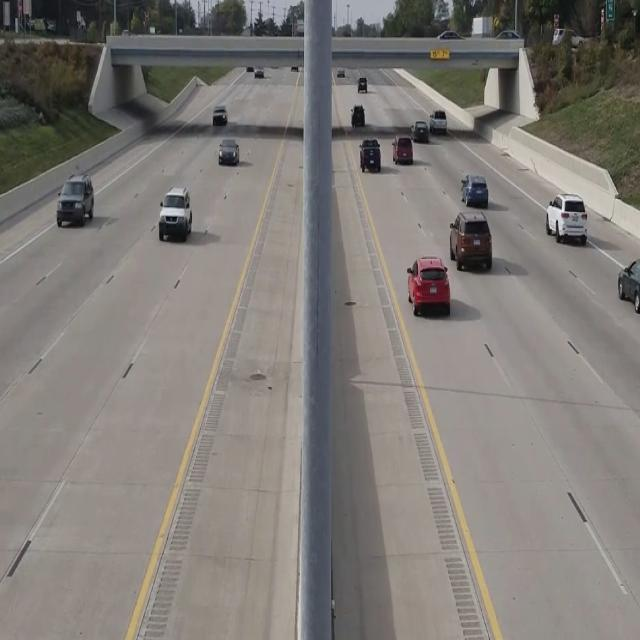car: (448, 211, 492, 272), (406, 256, 450, 316), (546, 193, 588, 244), (56, 172, 94, 226), (158, 186, 192, 241), (617, 258, 640, 316), (359, 138, 381, 172), (218, 138, 239, 165), (392, 136, 412, 164), (212, 104, 227, 126)
